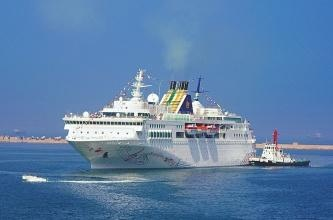otherboat: (252, 140, 314, 167)
youlun: (62, 70, 255, 172)
